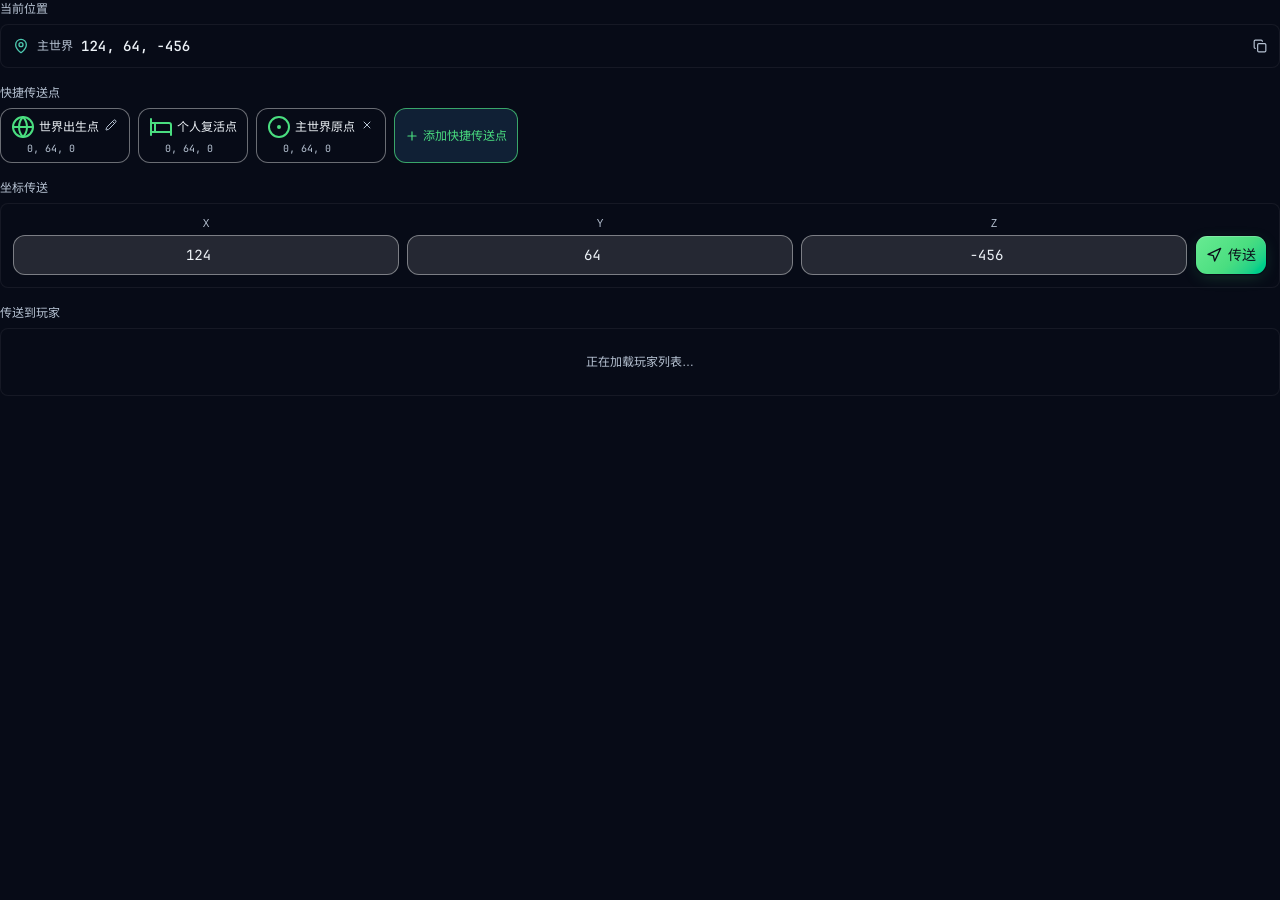
it: TeleportTab › 自定义快捷点：名称为空时拦截
Click the button "添加快捷传送点" at (456, 136), box [394, 108, 518, 163]
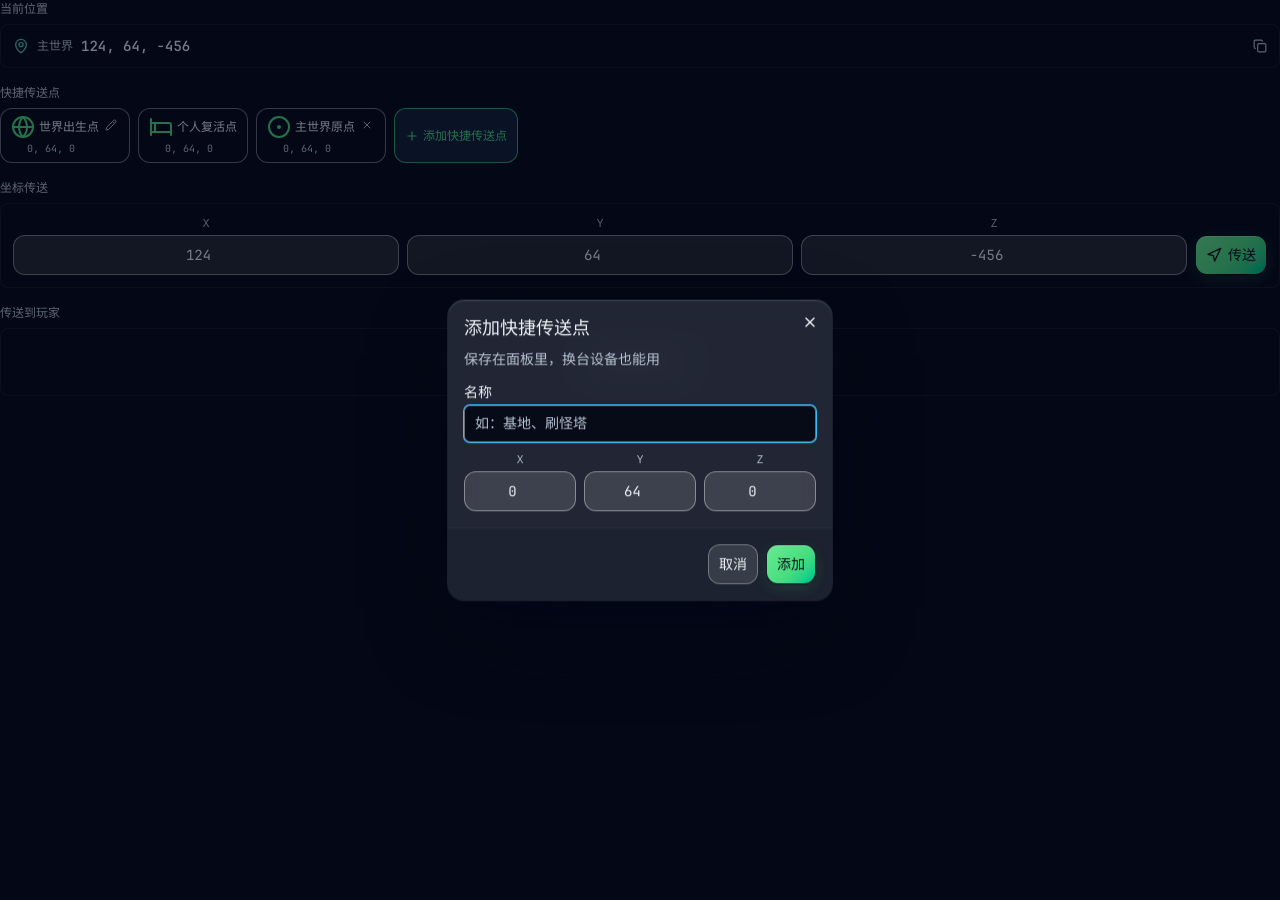
Click the button "添加" at (791, 564), box [766, 544, 816, 584]
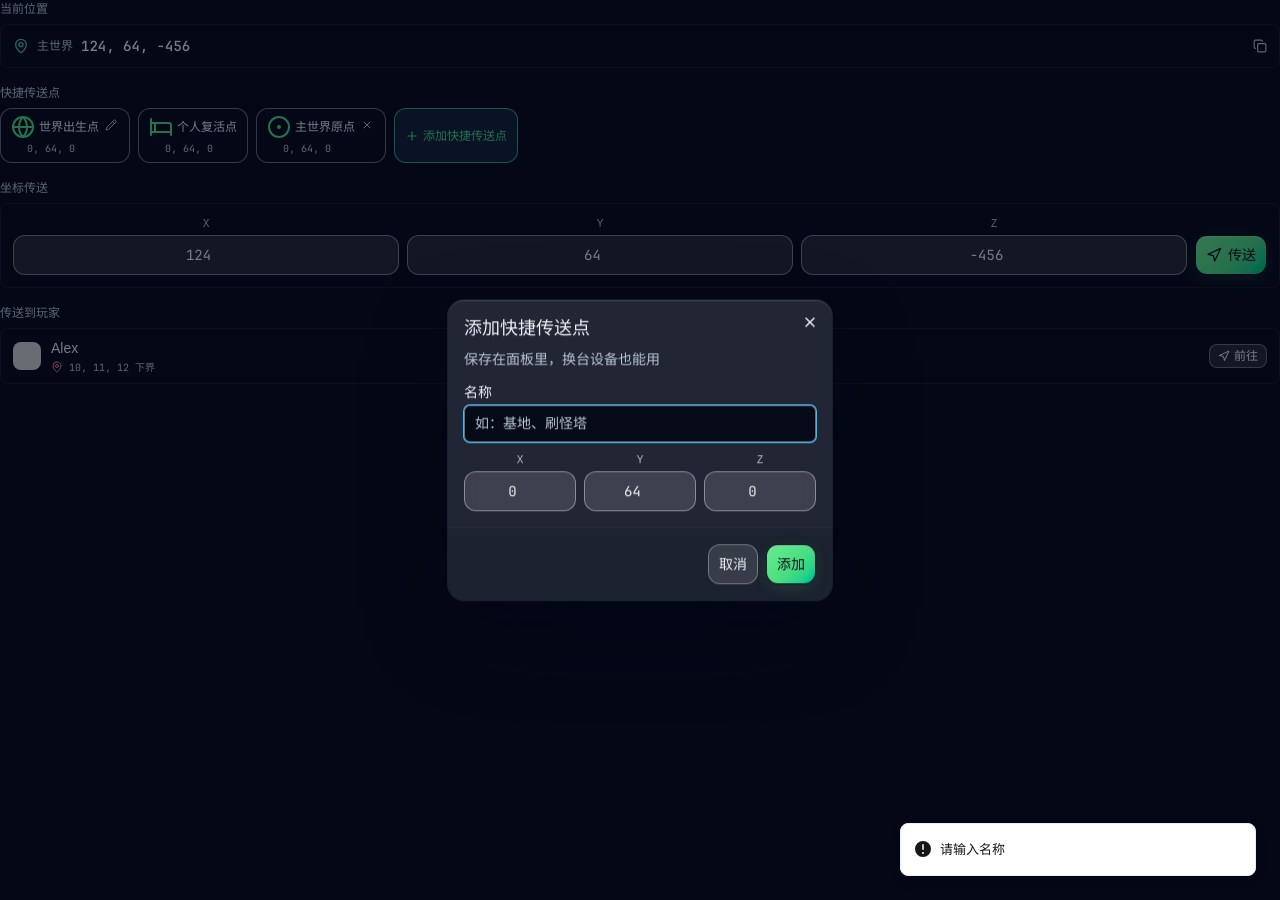
Now the text "请输入名称" is shown, box [940, 840, 1005, 859]
